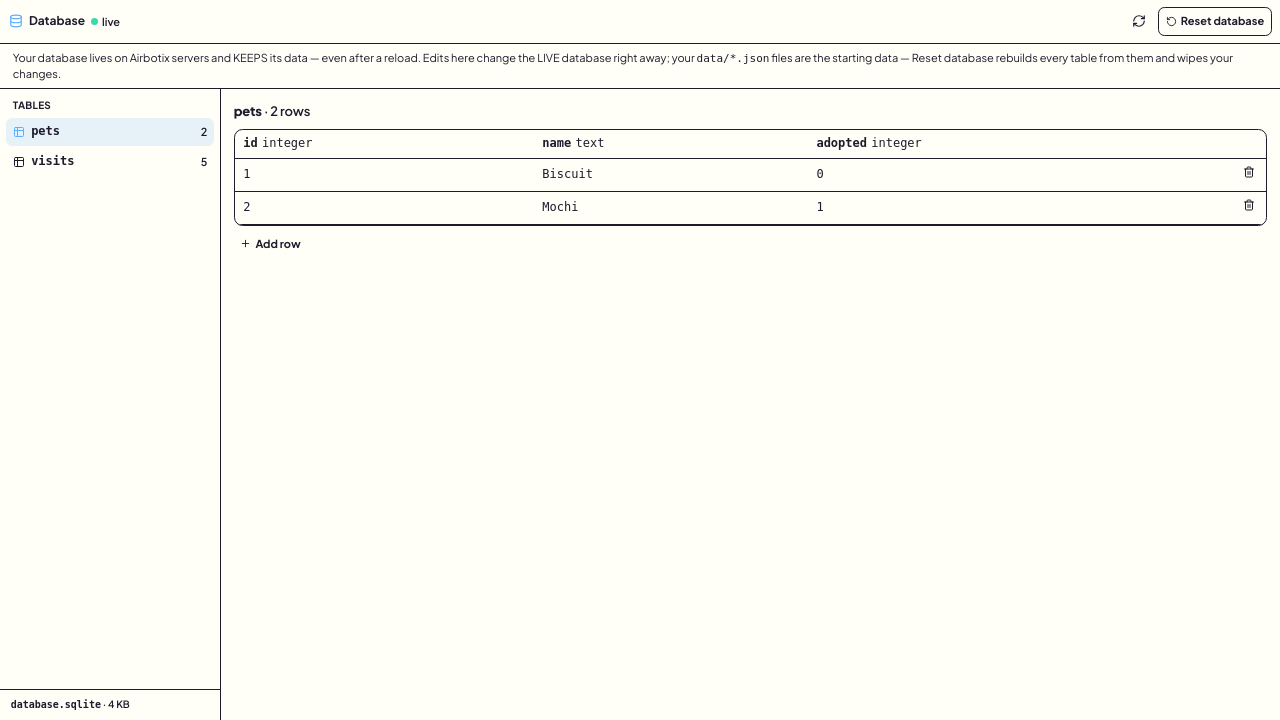
Test case: DbPane — master–detail layout (D-WEB-18) › a selected table that VANISHED (e.g. Reset removed it) falls back to the first table
Click the button with test id "db-table-visits" at (110, 162), box left=6, top=148, right=214, bottom=176
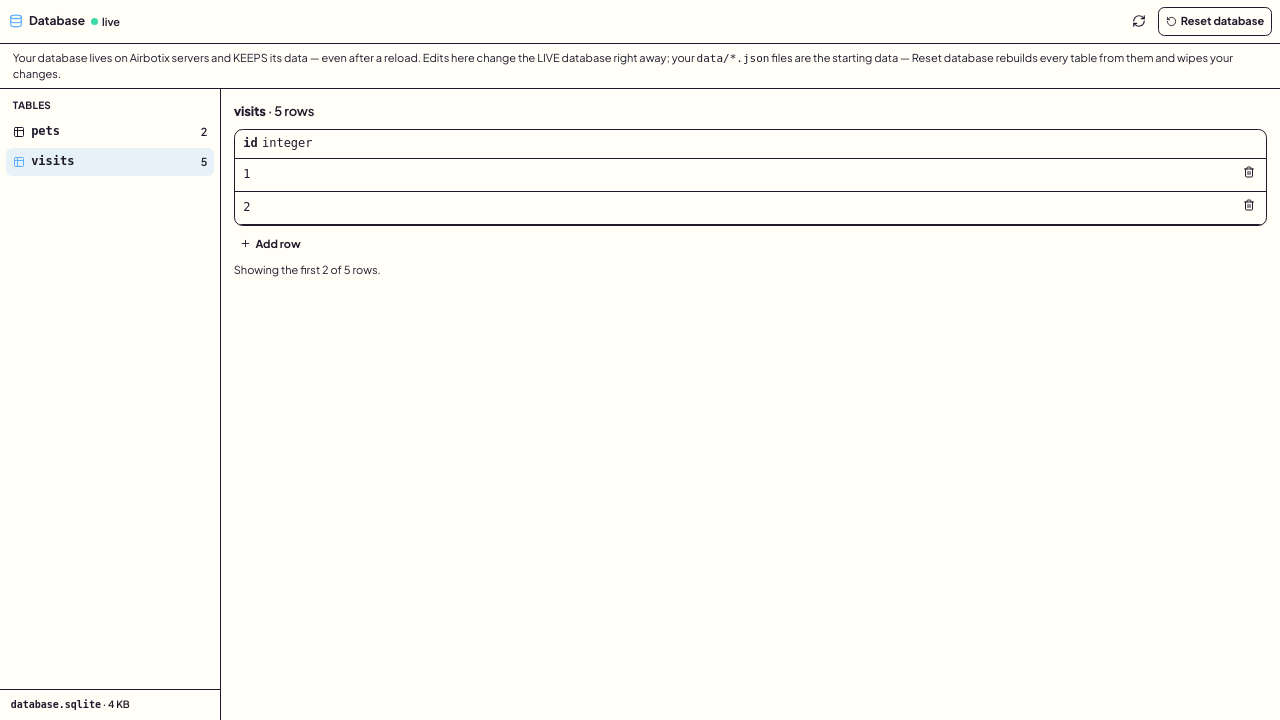
Result: the element with test id "db-collection-visits" is shown at left=234, top=103, right=1267, bottom=276
Click the button named "Refresh database" at (1139, 21), box left=1124, top=6, right=1154, bottom=36
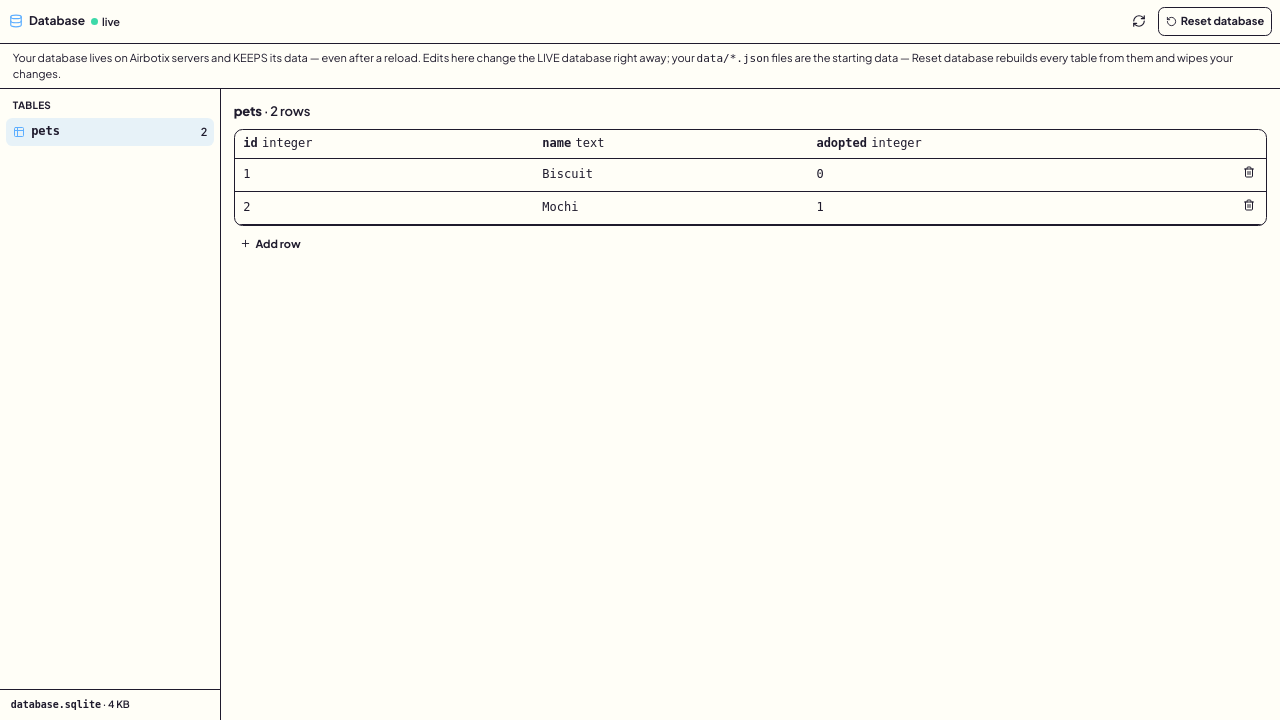
Result: the button with test id "db-table-visits" is gone
Result: the element with test id "db-collection-pets" is shown at left=234, top=103, right=1267, bottom=255
